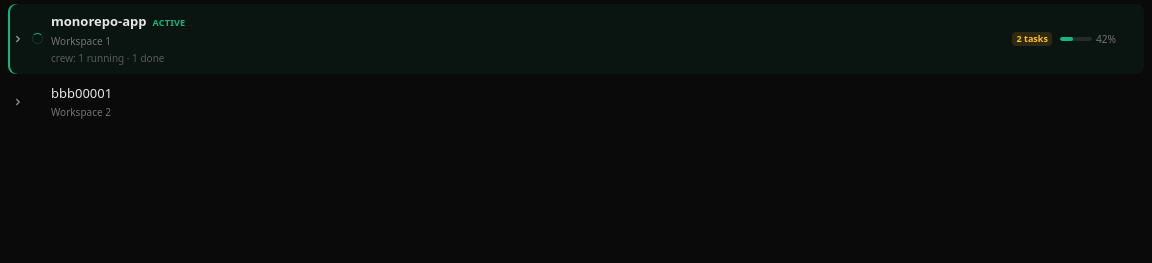
Test: CaptainsList expansion (crew + subagent tree) › chevron expands crewmate sub-rows AND the captain's SupervisionTree
The width and height of the screenshot is (1152, 263).
Click the button named "Expand crew and subagents".
click(18, 39)  # box [8,27,28,51]
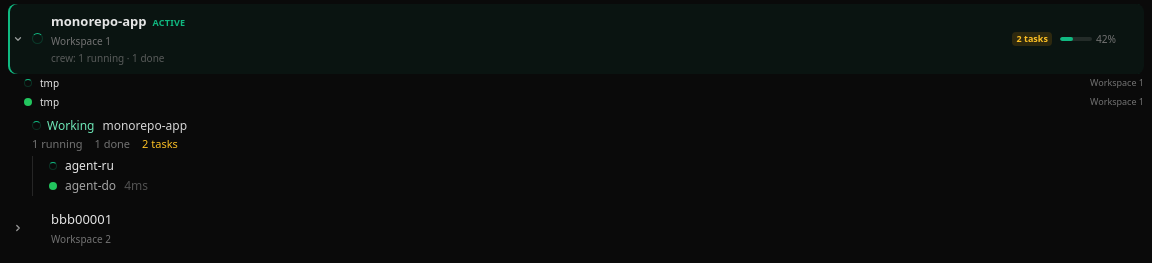
Now the text titled "running subagents" reads "1 running", box [32,136,82,152]
Now the text titled "finished subagents" reads "1 done", box [94,136,130,152]
